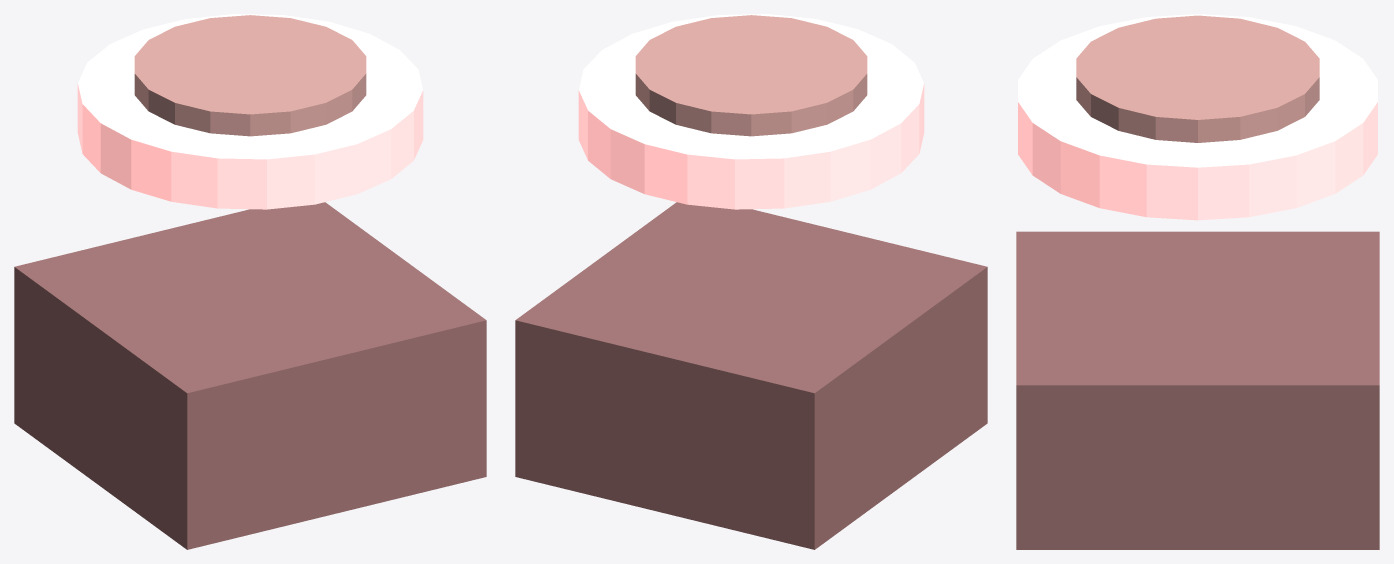
File: Bounce_Half.glb
3 views of the same model, side by side, from view 1: azimuth 30°, elevation 25°; view 2: azimuth 150°, elevation 25°; view 3: azimuth 270°, elevation 25° (orthographic). The views are drawn at different scales.
Visible parts, largest first — view 1: Bounce_Half_body, bounce_base.001, bounce_fill_ring.001; view 2: Bounce_Half_body, bounce_base.001, bounce_fill_ring.001; view 3: Bounce_Half_body, bounce_base.001, bounce_fill_ring.001.
Part boxes in pixels (<box>): Bounce_Half_body: <box>14,202,486,549</box>; bounce_base.001: <box>77,14,423,209</box>; bounce_fill_ring.001: <box>134,15,366,136</box>; Bounce_Half_body: <box>515,202,987,549</box>; bounce_base.001: <box>578,14,924,209</box>; bounce_fill_ring.001: <box>635,15,867,136</box>; Bounce_Half_body: <box>1016,231,1379,549</box>; bounce_base.001: <box>1018,14,1377,220</box>; bounce_fill_ring.001: <box>1076,15,1319,142</box>.
Size of the model in its own units: 1 by 1.23 by 1.
